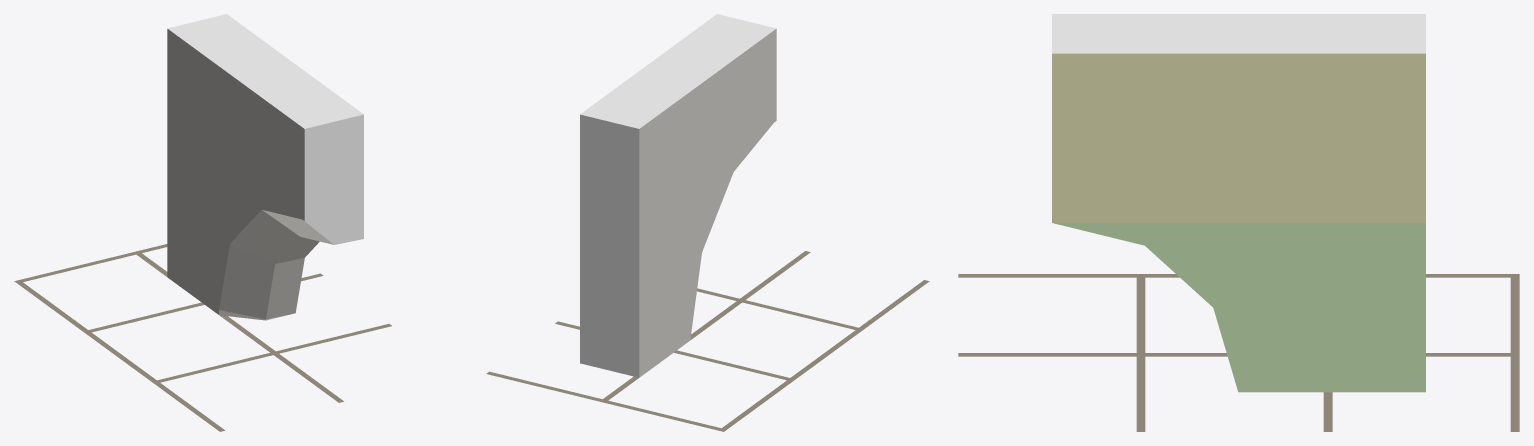
Rendered from Cave_Edge_Straight_Top_1x3.glb.
3 views of the same model, side by side, from view 1: azimuth 30°, elevation 25°; view 2: azimuth 150°, elevation 25°; view 3: azimuth 270°, elevation 25° (orthographic). The views are drawn at different scales.
Visible parts, largest first — view 1: Cave_Edge_Straight_Top_1x3, Floor; view 2: Cave_Edge_Straight_Top_1x3, Floor; view 3: Cave_Edge_Straight_Top_1x3, Floor.
Boxes of the visible parts, x1,y1,x2,y2 form: Cave_Edge_Straight_Top_1x3: (167,14,363,320); Floor: (14,244,391,431); Cave_Edge_Straight_Top_1x3: (580,14,776,377); Floor: (486,251,929,431); Cave_Edge_Straight_Top_1x3: (1052,14,1425,392); Floor: (958,274,1519,431).
Bounding box in the file's own units: 200 × 200 × 300.
Materials: 5 (1 with a texture image).
